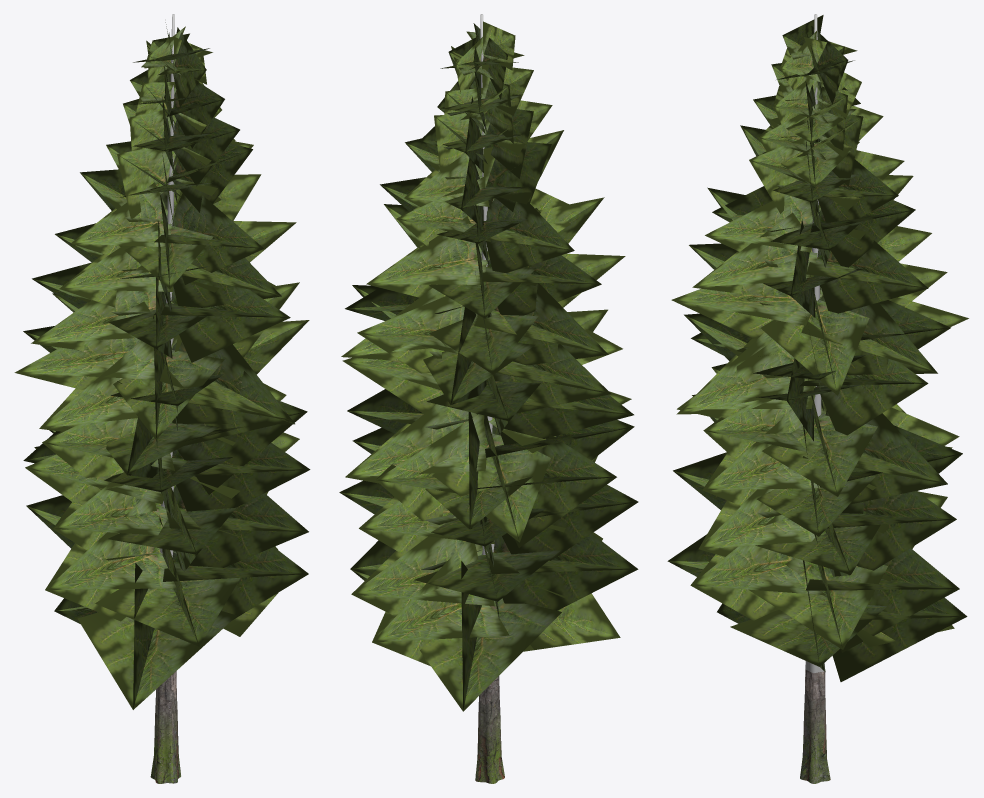
The model's file is pine2_treeit.fbx.
3 renders of one model, left to right at view 1: azimuth 30°, elevation 25°; view 2: azimuth 150°, elevation 25°; view 3: azimuth 270°, elevation 25°, orthographic.
Visible parts, largest first — view 1: Tree_2, Tree_1, Tree_0; view 2: Tree_2, Tree_1; view 3: Tree_2, Tree_1, Tree_0.
Boxes of the visible parts, x1,y1,x2,y2 form: Tree_2: (14,22,310,709); Tree_1: (150,671,180,783); Tree_0: (160,14,174,557); Tree_2: (339,21,638,711); Tree_1: (475,676,504,783); Tree_2: (667,15,968,681); Tree_1: (800,669,830,783); Tree_0: (805,14,824,672).
Bounding box in the file's own units: 271 × 721 × 257.
